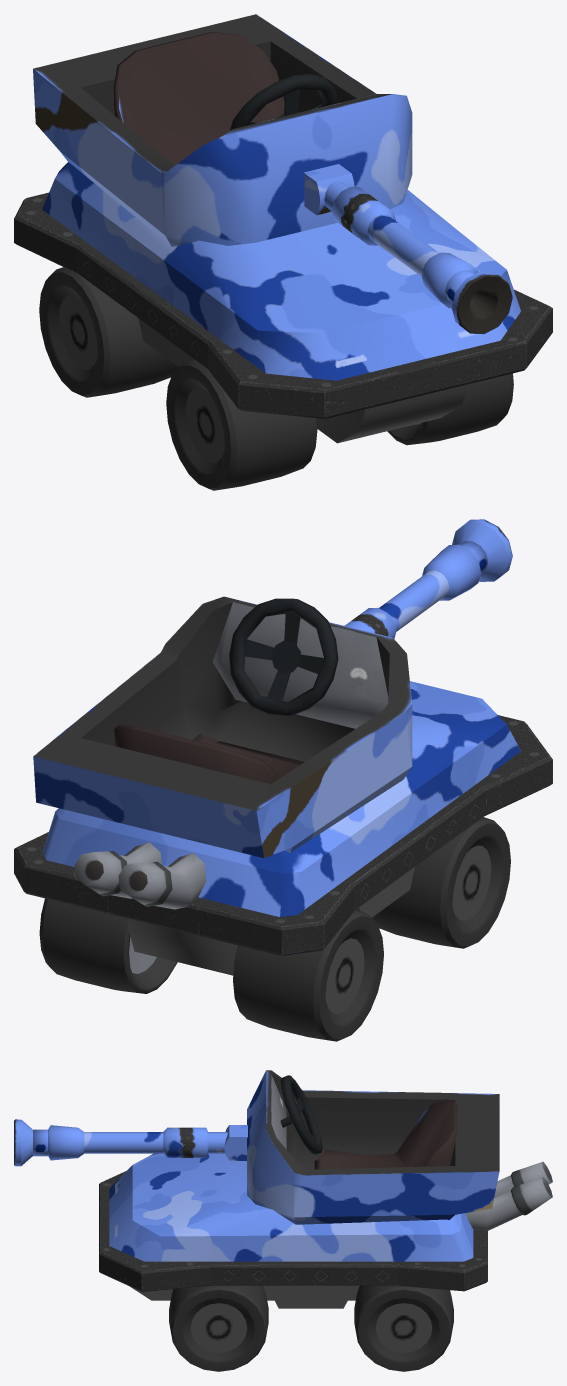
The model's file is Tank_Kart.fbx.
3 views of the same model, one above another, from view 1: azimuth 30°, elevation 25°; view 2: azimuth 150°, elevation 25°; view 3: azimuth 270°, elevation 25° (orthographic). The views are drawn at different scales.
Visible parts, largest first — view 1: Body, FR_Wheel, RR_Wheel, FL_Wheel, Steering; view 2: Body, RR_Wheel, FR_Wheel, RL_Wheel, Steering; view 3: Body, FL_Wheel, RL_Wheel, Steering.
Part boxes in pixels (left/top/right/bottom): Body: left=14, top=14, right=552, bottom=443; FR_Wheel: left=166, top=359, right=317, bottom=490; RR_Wheel: left=39, top=267, right=178, bottom=397; FL_Wheel: left=387, top=373, right=513, bottom=445; Steering: left=230, top=73, right=338, bottom=130; Body: left=14, top=519, right=552, bottom=975; RR_Wheel: left=233, top=910, right=383, bottom=1041; FR_Wheel: left=372, top=817, right=510, bottom=948; RL_Wheel: left=39, top=898, right=177, bottom=993; Steering: left=229, top=598, right=338, bottom=715; Body: left=14, top=1070, right=552, bottom=1308; FL_Wheel: left=169, top=1285, right=268, bottom=1371; RL_Wheel: left=354, top=1285, right=453, bottom=1371; Steering: left=280, top=1075, right=322, bottom=1154.
Bounding box in the file's own units: 15.82 × 16.65 × 32.94.
1 material, 1 textured.
